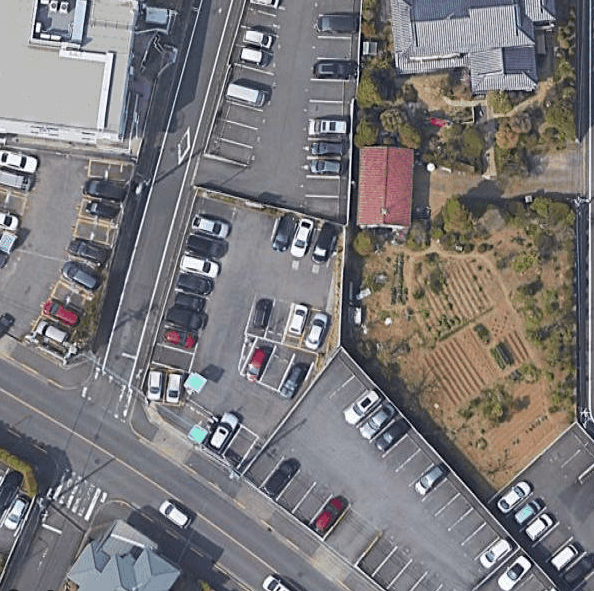facility: (0, 0, 132, 137)
